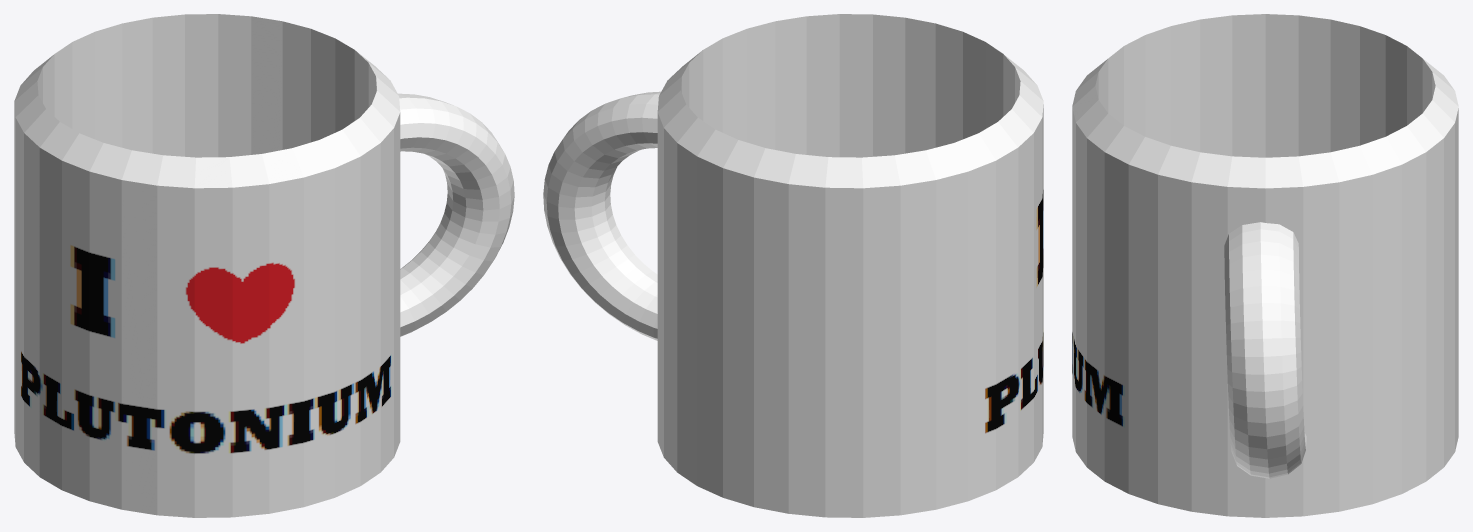
File: cup.fbx
The picture shows the model from 3 angles, left to right: view 1: azimuth 30°, elevation 25°; view 2: azimuth 150°, elevation 25°; view 3: azimuth 270°, elevation 25°; orthographic projection.
Visible parts, largest first — view 1: Torus.001; view 2: Torus.001; view 3: Torus.001.
Boxes of the visible parts, <box> form: Torus.001: <box>14,14,514,517</box>; Torus.001: <box>543,14,1043,517</box>; Torus.001: <box>1072,14,1458,517</box>.
Size of the model in its own units: 280 by 200 by 200.
